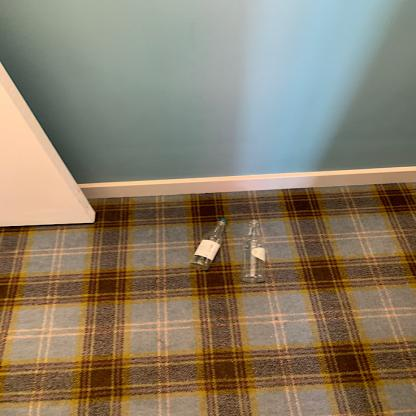trash: (186, 219, 229, 270), (238, 217, 267, 285)
